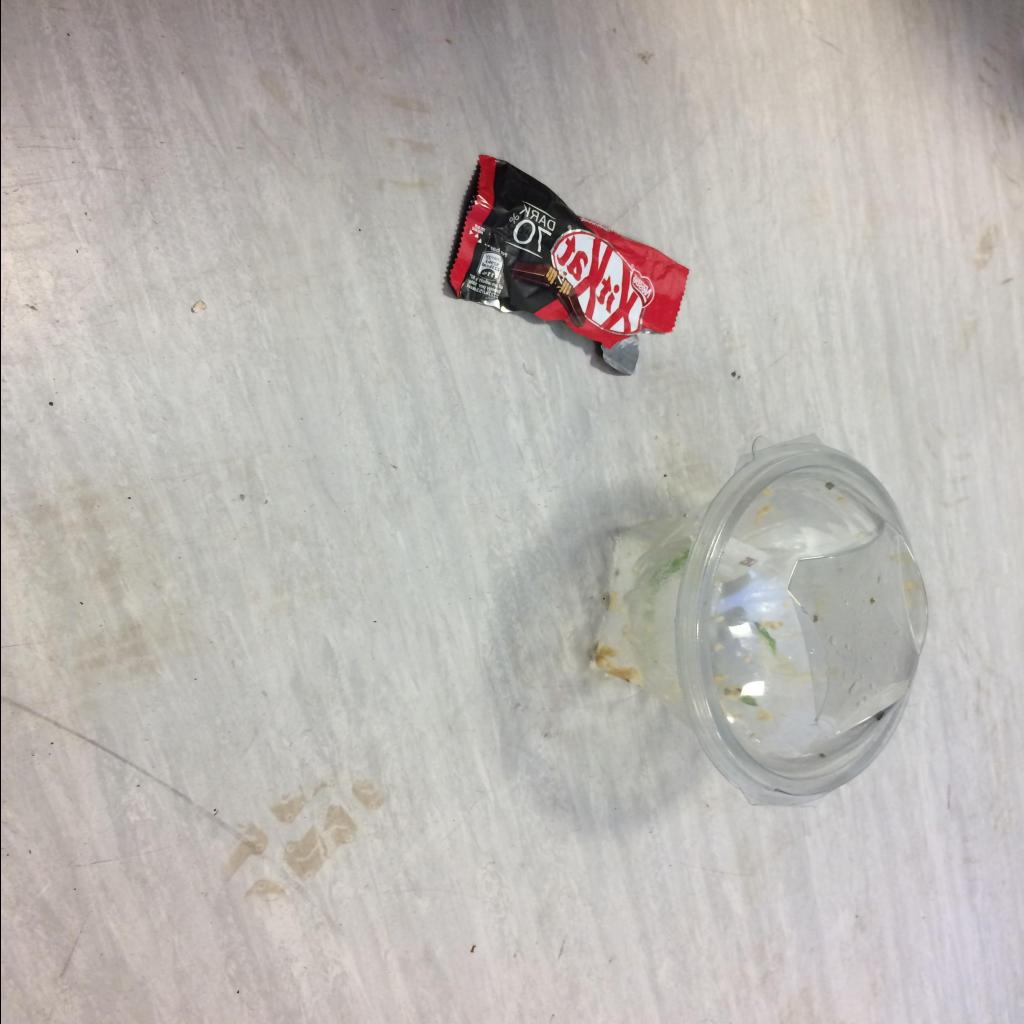Other plastic: (448, 155, 688, 375)
